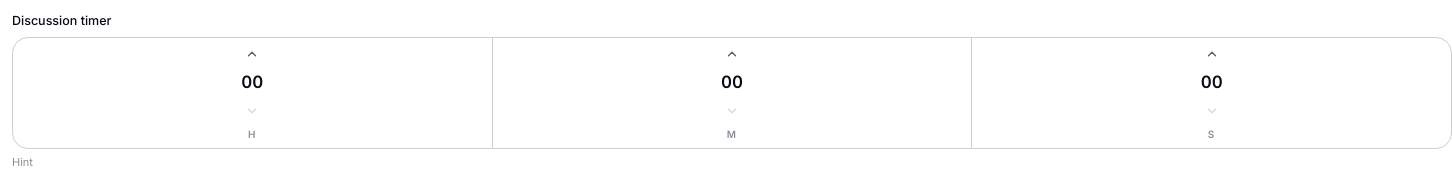
it: TimerDurationFields › snaps typed seconds to the nearest 15
Replace the text in the number field named "Discussion timer seconds" with "20" at {"x": 1212, "y": 83}, box [976, 68, 1447, 97]
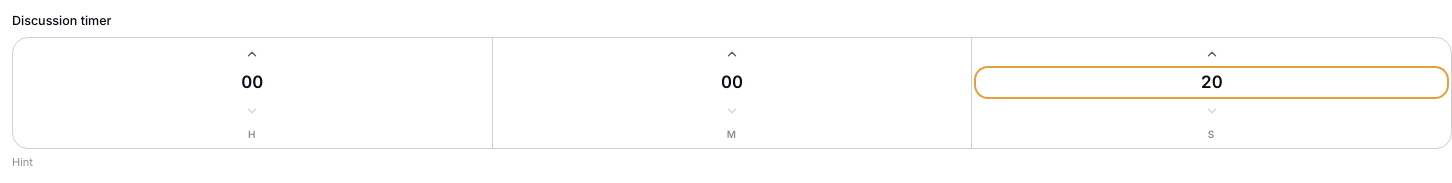
Press Tab
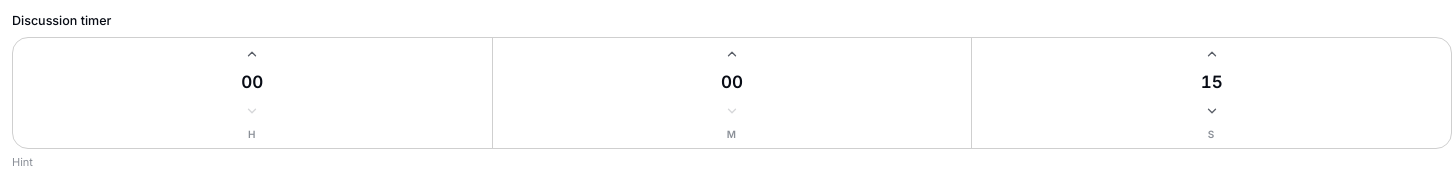
Check: the number field named "Discussion timer seconds" holds "15", box [976, 68, 1447, 97]
